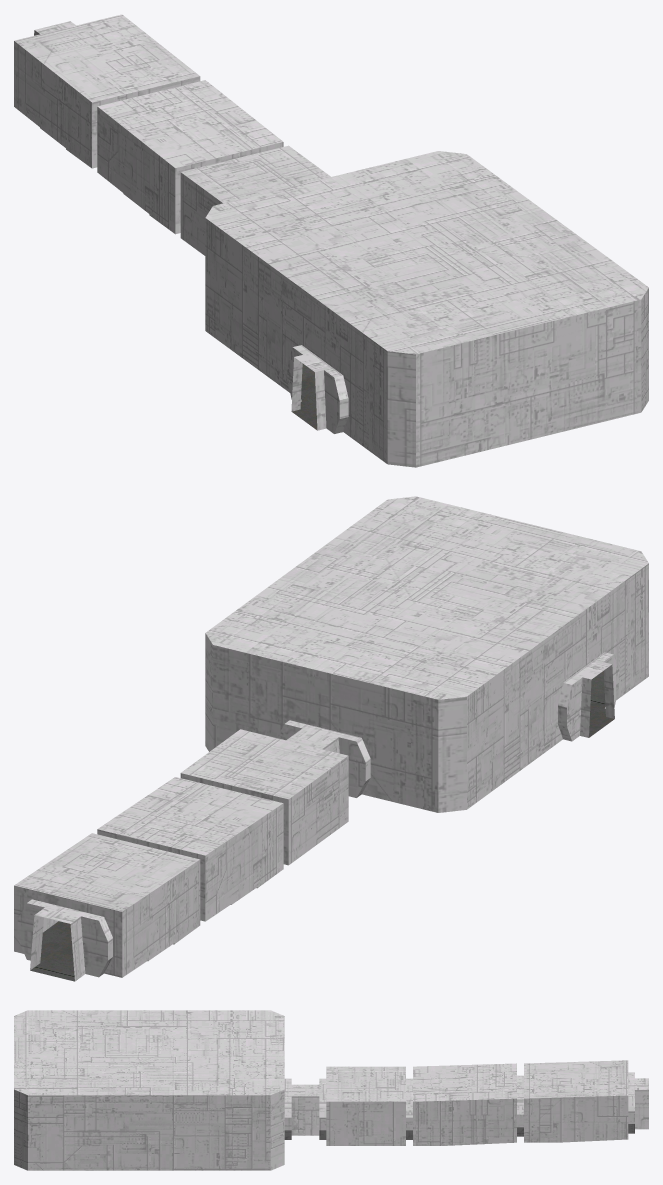
Rendered from thm_spc_star_destroyer_s01_r3_hyperdrive_mesh_r3.fbx.
3 renders of one model, top to bottom at view 1: azimuth 30°, elevation 25°; view 2: azimuth 150°, elevation 25°; view 3: azimuth 270°, elevation 25°, orthographic. The views are drawn at different scales.
Parts seen in each view (by area): view 1: mesh_node; view 2: mesh_node; view 3: mesh_node.
Boxes of the visible parts, x1,y1,x2,y2 form: mesh_node: [14, 14, 648, 467]; mesh_node: [14, 496, 648, 981]; mesh_node: [14, 1010, 648, 1170].
Size of the model in its own units: 15.5 by 6 by 45.75.
Materials: 2 (2 with a texture image).
